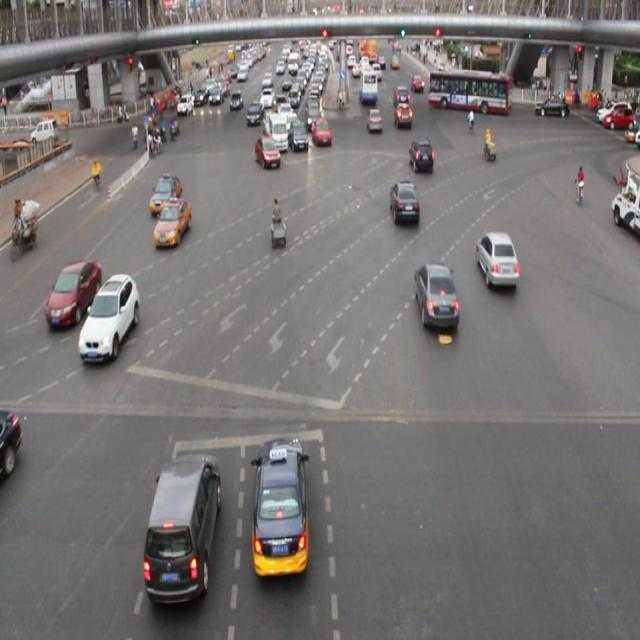car: (252, 438, 310, 577), (80, 273, 139, 360), (46, 258, 101, 325), (414, 260, 458, 330), (477, 231, 517, 288), (154, 198, 191, 245), (1, 408, 21, 481), (390, 180, 419, 227), (149, 174, 182, 213), (408, 138, 434, 176), (255, 133, 280, 170), (288, 119, 309, 154), (311, 116, 332, 148), (366, 106, 383, 132)
truck: (144, 453, 216, 603), (264, 112, 288, 150)
